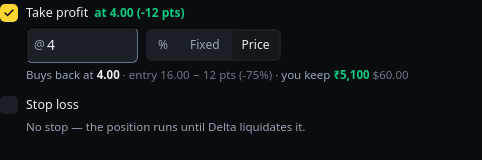
it: Price: the level itself › a target typed over the entry is refused too
Replace the text in the field named "target price" with "18". click: (82, 45)
box: left=26, top=27, right=138, bottom=63
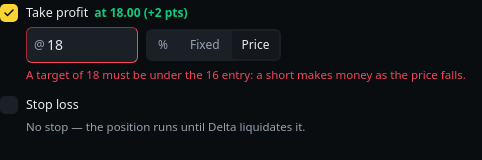
Expected: the message shows "A target of 18 must be under the 16 entry", left=26, top=67, right=466, bottom=82
